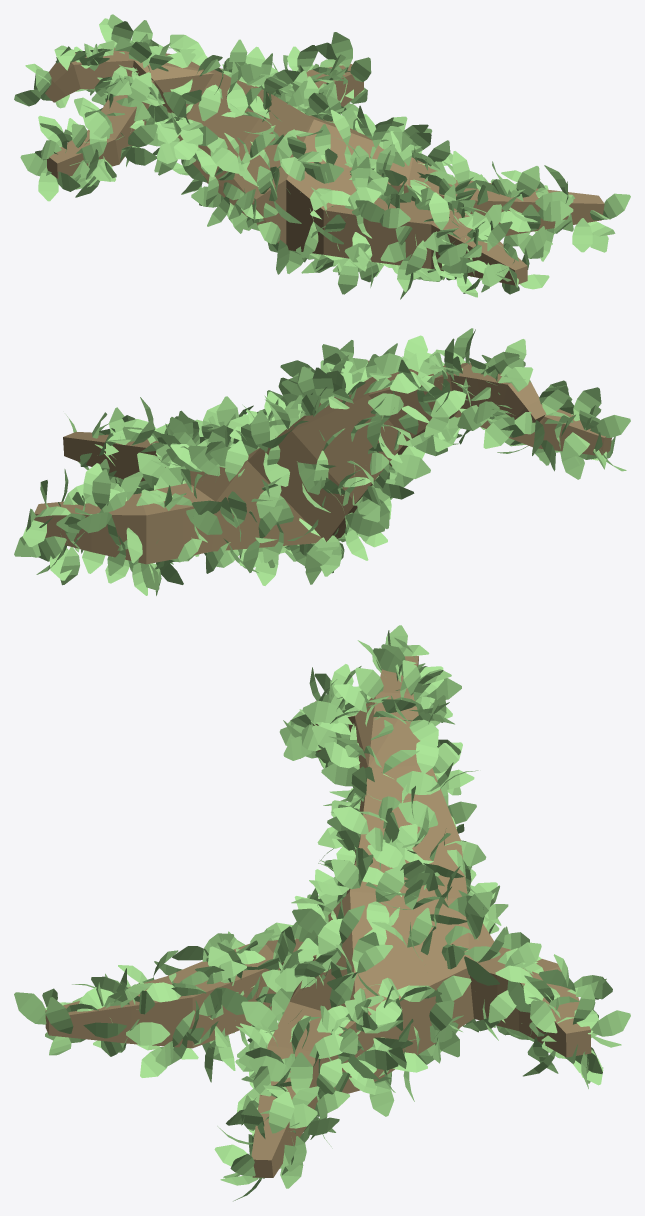
File: bridge05.fbx
3 views of the same model, one above another, from view 1: azimuth 30°, elevation 25°; view 2: azimuth 150°, elevation 25°; view 3: azimuth 270°, elevation 25° (orthographic). The views are drawn at different scales.
Visible parts, largest first — view 1: Tree6, Tree6|leaf|Dupli|815, Tree6|leaf|Dupli|530, Tree6|leaf|Dupli|796, Tree6|leaf|Dupli|414, Tree6|leaf|Dupli|568, Tree6|leaf|Dupli|131, Tree6|leaf|Dupli|711, Tree6|leaf|Dupli|329, Tree6|leaf|Dupli|114, Tree6|leaf|Dupli|413, Tree6|leaf|Dupli|861 (+15 smaller); view 2: Tree6, Tree6|leaf|Dupli|177, Tree6|leaf|Dupli|746, Tree6|leaf|Dupli|139, Tree6|leaf|Dupli|789, Tree6|leaf|Dupli|32, Tree6|leaf|Dupli|931, Tree6|leaf|Dupli|36, Tree6|leaf|Dupli|842, Tree6|leaf|Dupli|910, Tree6|leaf|Dupli|798, Tree6|leaf|Dupli|241 (+26 smaller); view 3: Tree6.
Boxes of the visible parts, x1=… form: Tree6: x1=45, y1=48, x2=604, y2=285; Tree6|leaf|Dupli|815: x1=198, y1=84, x2=220, y2=121; Tree6|leaf|Dupli|530: x1=429, y1=192, x2=449, y2=229; Tree6|leaf|Dupli|796: x1=516, y1=166, x2=539, y2=197; Tree6|leaf|Dupli|414: x1=210, y1=147, x2=239, y2=173; Tree6|leaf|Dupli|568: x1=572, y1=218, x2=592, y2=252; Tree6|leaf|Dupli|131: x1=81, y1=110, x2=109, y2=138; Tree6|leaf|Dupli|711: x1=538, y1=200, x2=573, y2=221; Tree6|leaf|Dupli|329: x1=127, y1=72, x2=152, y2=103; Tree6|leaf|Dupli|114: x1=338, y1=259, x2=358, y2=294; Tree6|leaf|Dupli|413: x1=128, y1=124, x2=157, y2=147; Tree6|leaf|Dupli|861: x1=331, y1=32, x2=352, y2=67; Tree6: x1=34, y1=360, x2=611, y2=564; Tree6|leaf|Dupli|177: x1=431, y1=390, x2=466, y2=417; Tree6|leaf|Dupli|746: x1=390, y1=454, x2=430, y2=478; Tree6|leaf|Dupli|139: x1=483, y1=417, x2=514, y2=448; Tree6|leaf|Dupli|789: x1=225, y1=440, x2=248, y2=481; Tree6|leaf|Dupli|32: x1=590, y1=415, x2=630, y2=437; Tree6|leaf|Dupli|931: x1=186, y1=508, x2=222, y2=534; Tree6|leaf|Dupli|36: x1=368, y1=393, x2=403, y2=415; Tree6|leaf|Dupli|842: x1=345, y1=513, x2=384, y2=536; Tree6|leaf|Dupli|910: x1=573, y1=387, x2=601, y2=421; Tree6|leaf|Dupli|798: x1=250, y1=410, x2=269, y2=451; Tree6|leaf|Dupli|241: x1=92, y1=469, x2=110, y2=509; Tree6: x1=45, y1=655, x2=591, y2=1177.
Size of the model in its own units: 1156 by 557 by 972.
